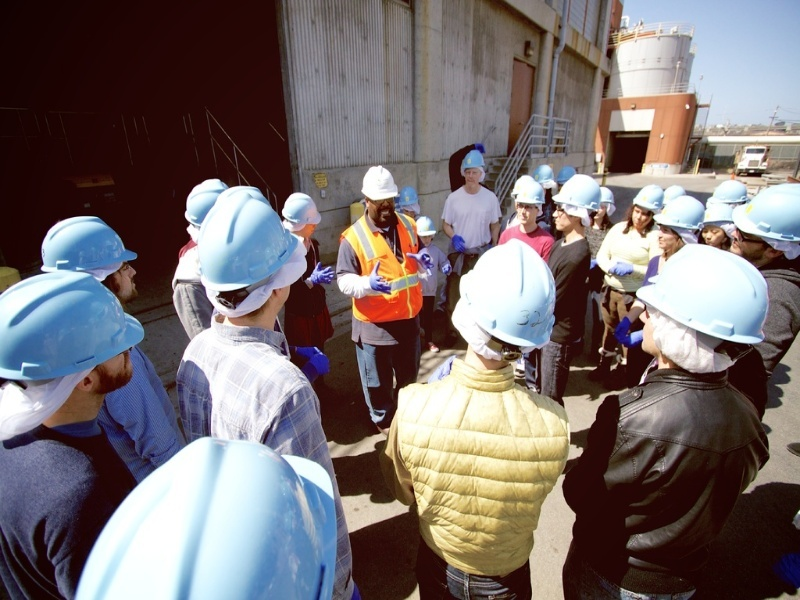Baret: (634, 244, 769, 358), (460, 240, 555, 360), (197, 191, 299, 295), (38, 215, 140, 272), (361, 163, 398, 206)
